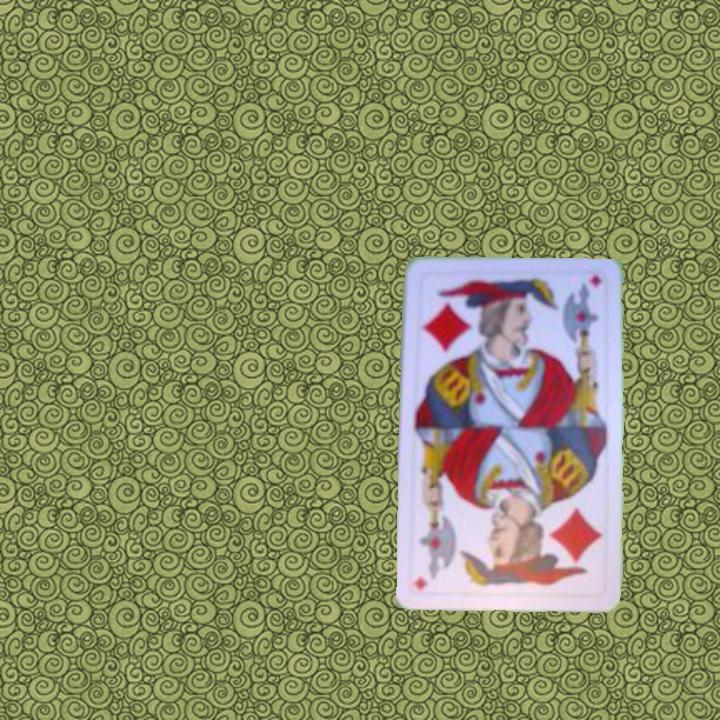d_j.png: (415, 272, 516, 359), (506, 509, 607, 596)
